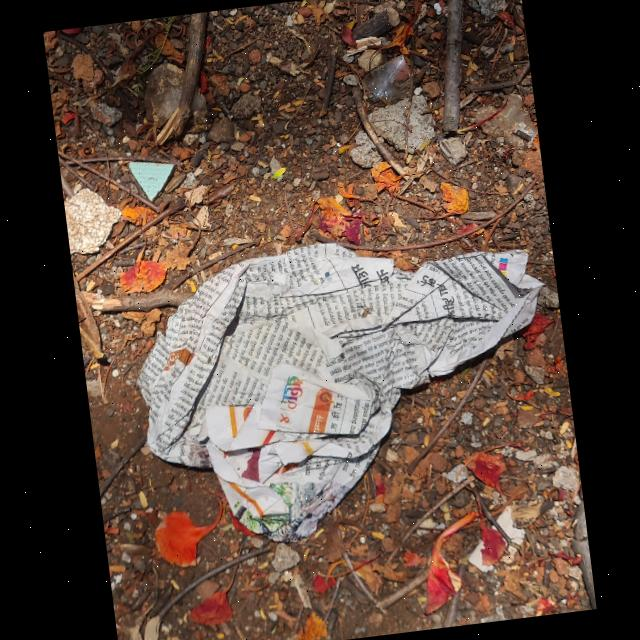trash: (121, 215, 574, 559)
